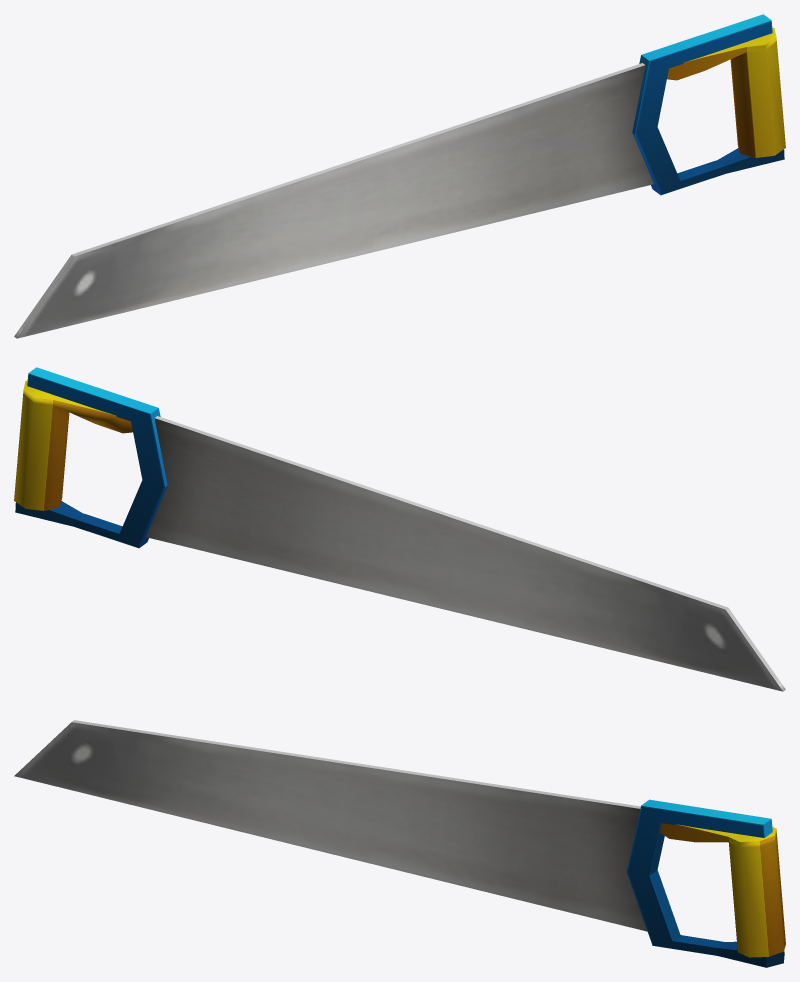
The model's file is CeSuo_01_juzi_01.FBX.
3 views of the same model, one above another, from view 1: azimuth 30°, elevation 25°; view 2: azimuth 150°, elevation 25°; view 3: azimuth 330°, elevation 25° (orthographic).
Visible parts, largest first — view 1: CeSuo_01_juzi_01; view 2: CeSuo_01_juzi_01; view 3: CeSuo_01_juzi_01.
Part boxes in pixels (x1=…): CeSuo_01_juzi_01: x1=14, y1=14, x2=785, y2=338; CeSuo_01_juzi_01: x1=14, y1=367, x2=785, y2=691; CeSuo_01_juzi_01: x1=14, y1=720, x2=785, y2=967.
Size of the model in its own units: 285 by 52.38 by 16.38.
